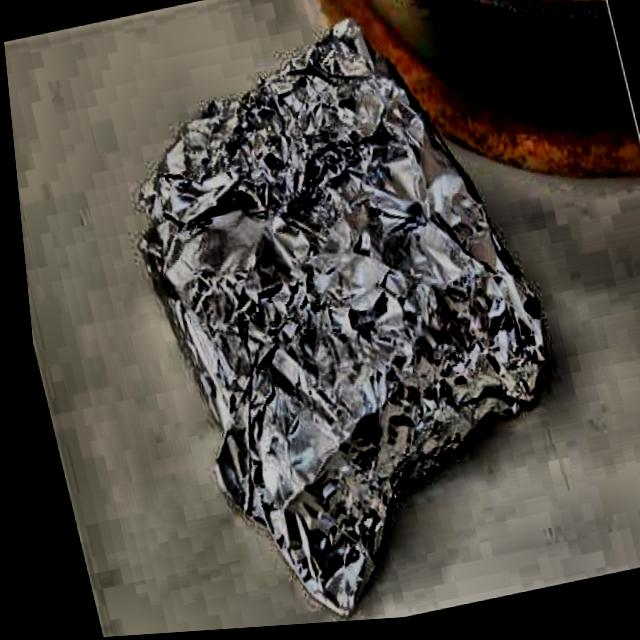Foil: (78, 0, 620, 636)
